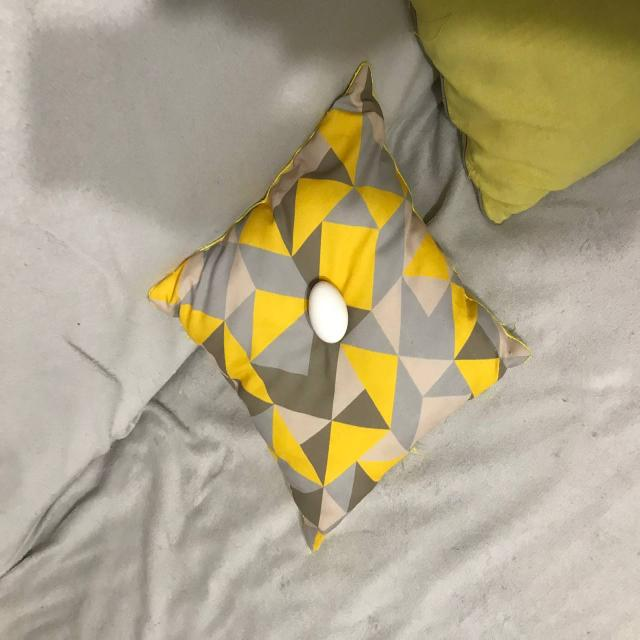egg: (307, 279, 349, 345)
